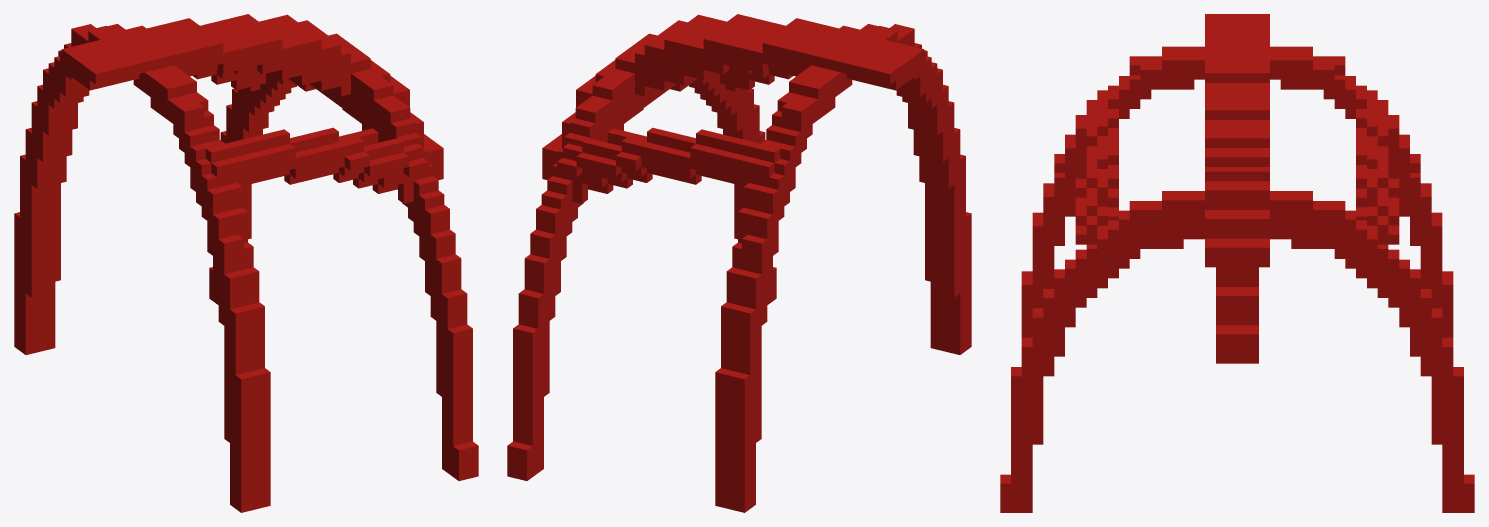
Rendered from crashed_light_helicopter_canopy_frame.glb.
3 views of the same model, side by side, from view 1: azimuth 30°, elevation 25°; view 2: azimuth 150°, elevation 25°; view 3: azimuth 270°, elevation 25° (orthographic). The views are drawn at different scales.
Parts seen in each view (by area): view 1: body:compound; view 2: body:compound; view 3: body:compound.
Boxes of the visible parts, <box> form: body:compound: <box>14,14,478,512</box>; body:compound: <box>507,14,971,512</box>; body:compound: <box>1000,14,1474,512</box>.
Size of the model in its own units: 1.12 by 1.19 by 1.38.
